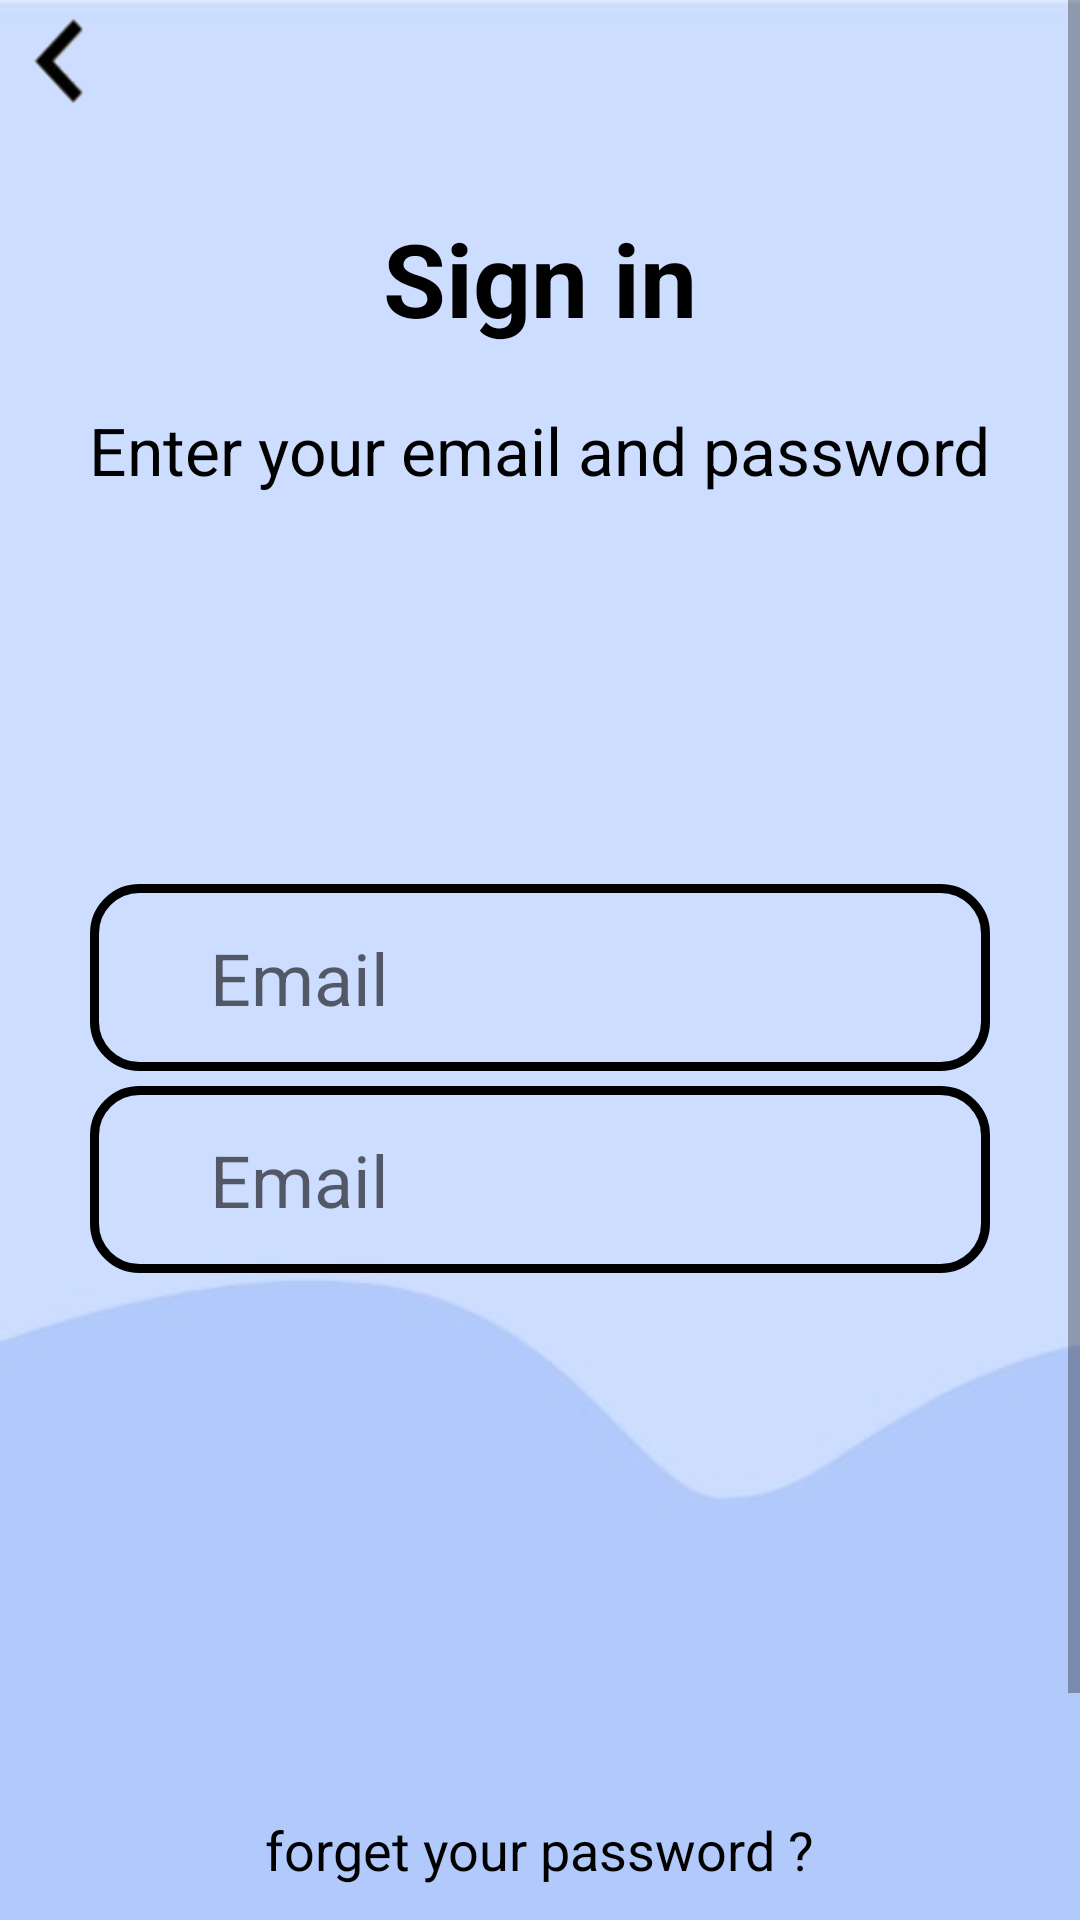

Named icons in this screenshot (1080*1920) and their centers, (x=x, y=y):
back arrow: (x=58, y=61)
